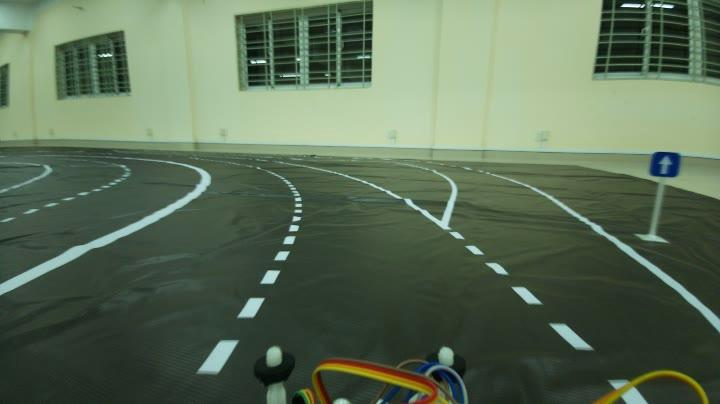onewayroad: (644, 146, 685, 185)
